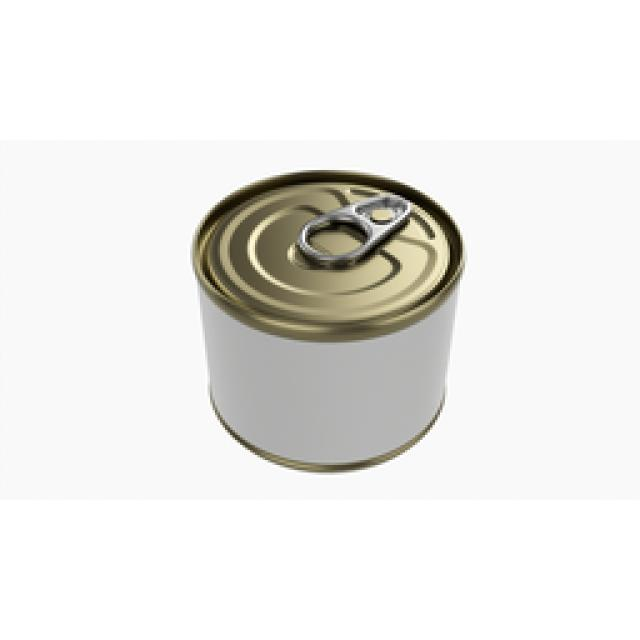alumunium: (192, 170, 462, 470)
